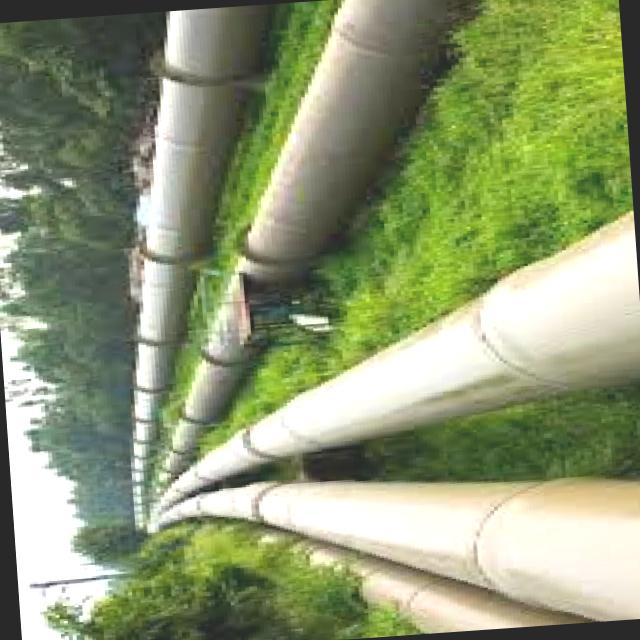gas: (162, 0, 459, 480), (160, 211, 640, 507), (161, 476, 640, 621), (134, 3, 266, 523), (243, 0, 459, 279)
